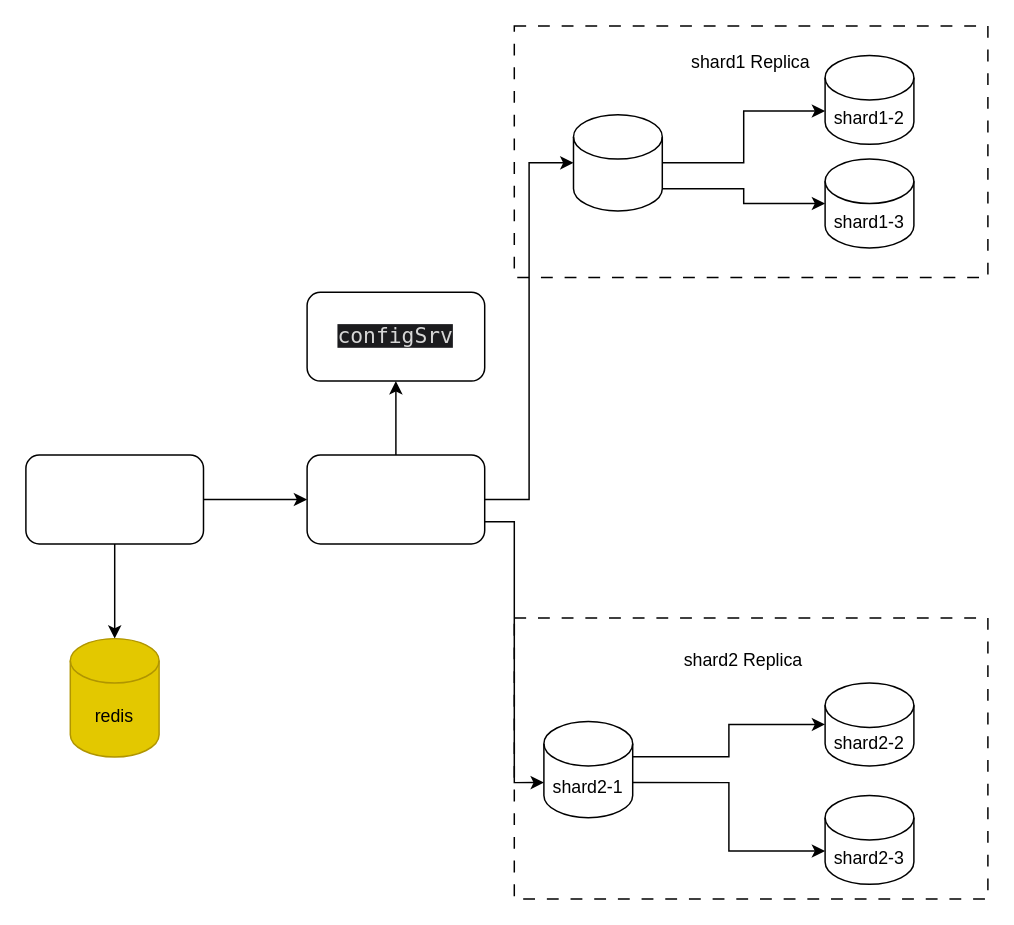
The diagram is 1014 pixels wide and 925 high, and some of its shapes have lost their labels. Each missing label, with the centre of its shape:
"mongos_router" goes at point (395, 499).
"pymongo-api" goes at point (114, 499).
"shard1-1" goes at point (617, 162).
